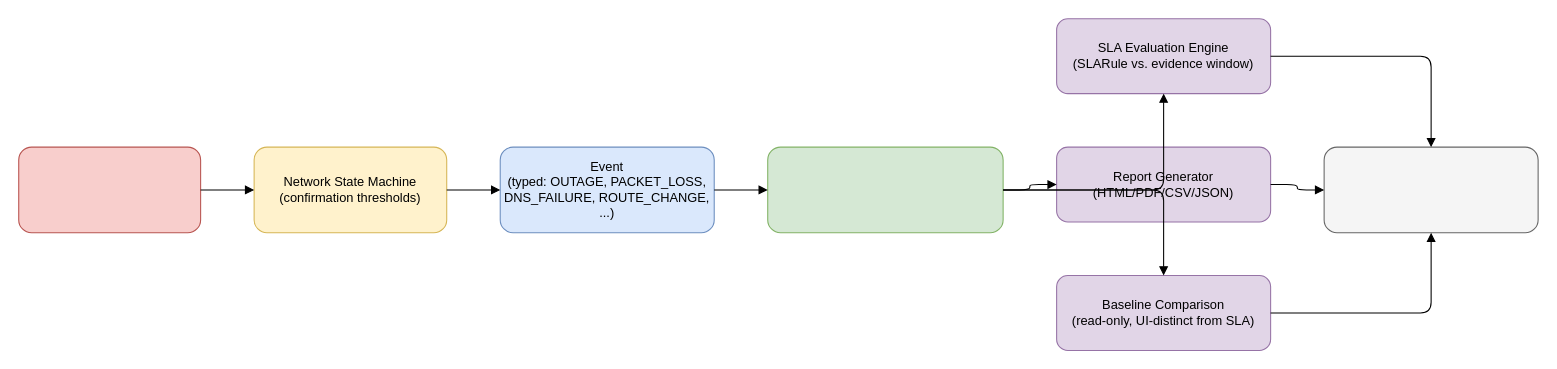
Image size: 1557x369. Some labels were removed from this diagram. The shapes that lost their labels are listed below. From the top down, each one's box as (x1, y1, x2, y2) in pixels, then its label:
(18, 146, 201, 233): Raw Measurements (per probe category)
(767, 146, 1003, 233): Incident Correlation (groups related Events + evidence)
(1323, 146, 1538, 233): Dashboard: Incident view, SLA view, Reports, Baseline view
